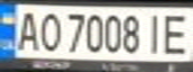0: (81, 10, 106, 54), (103, 11, 124, 55)
7: (60, 9, 84, 53)
8: (121, 11, 145, 55)
A: (12, 7, 42, 52)
E: (160, 10, 193, 56)
I: (142, 10, 169, 55)
O: (33, 9, 63, 53)
